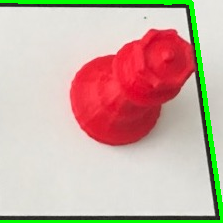Red Queen: (68, 23, 196, 150)
